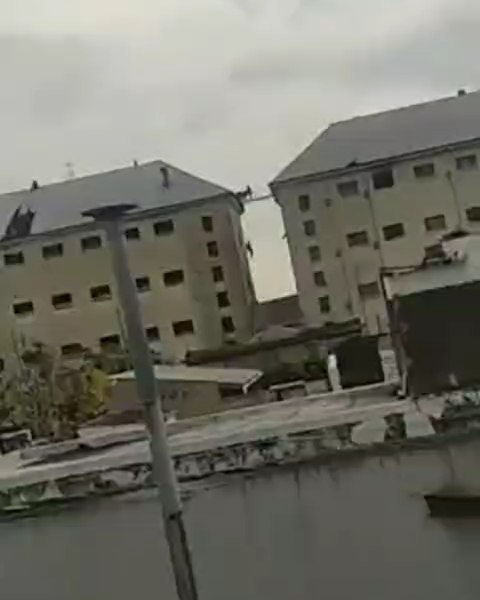building: (1, 143, 254, 385), (263, 77, 480, 334)
sky: (1, 1, 465, 142)
